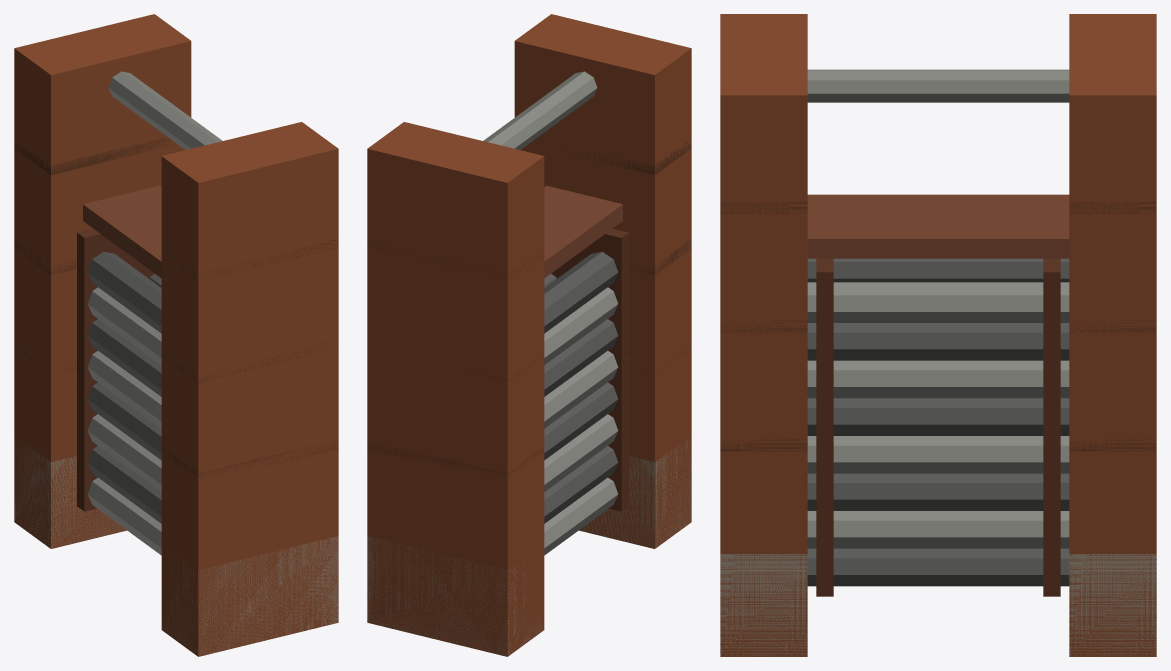
File: fort_pumpworks_inner.glb
The picture shows the model from 3 angles, left to right: view 1: azimuth 30°, elevation 25°; view 2: azimuth 150°, elevation 25°; view 3: azimuth 270°, elevation 25°; orthographic projection. The views are drawn at different scales.
Parts seen in each view (by area): view 1: fort_pumpworks_inner; view 2: fort_pumpworks_inner; view 3: fort_pumpworks_inner.
Part boxes in pixels (box(x1,y1,x2,y2)): fort_pumpworks_inner: box(14, 14, 338, 656); fort_pumpworks_inner: box(367, 14, 691, 656); fort_pumpworks_inner: box(720, 14, 1156, 656).
Size of the model in its own units: 4.4 by 14.2 by 10.
